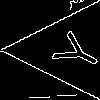Y: (41, 25, 100, 77)
